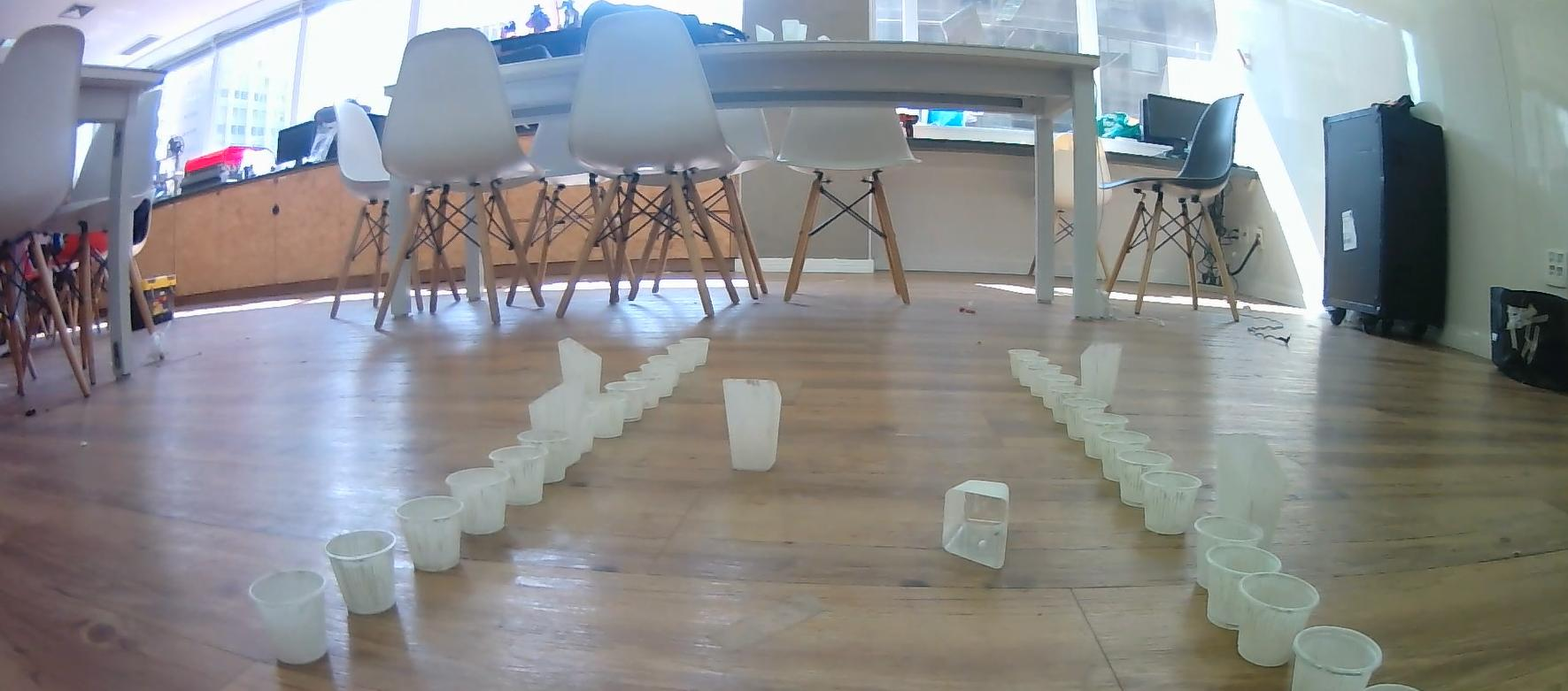erva_daninha: (1210, 431, 1286, 539), (941, 480, 1012, 570), (528, 380, 595, 465), (722, 378, 782, 472), (558, 337, 603, 425), (1079, 342, 1123, 410)
planta: (1236, 572, 1320, 668), (248, 568, 331, 665), (1205, 542, 1282, 630), (325, 530, 398, 616), (1291, 626, 1383, 691), (1193, 514, 1264, 591), (396, 495, 464, 572), (444, 467, 507, 535), (1141, 469, 1203, 535), (488, 447, 547, 506), (1117, 449, 1174, 508), (516, 427, 568, 484), (1100, 430, 1151, 482), (1084, 412, 1129, 459), (1064, 398, 1110, 441), (589, 392, 628, 439), (606, 380, 645, 422), (1053, 386, 1095, 424), (623, 371, 660, 409), (639, 361, 679, 396), (1016, 356, 1056, 390), (1042, 373, 1080, 407), (654, 353, 693, 385), (1031, 365, 1068, 397), (1008, 349, 1044, 381), (665, 344, 703, 373), (677, 337, 709, 365)
